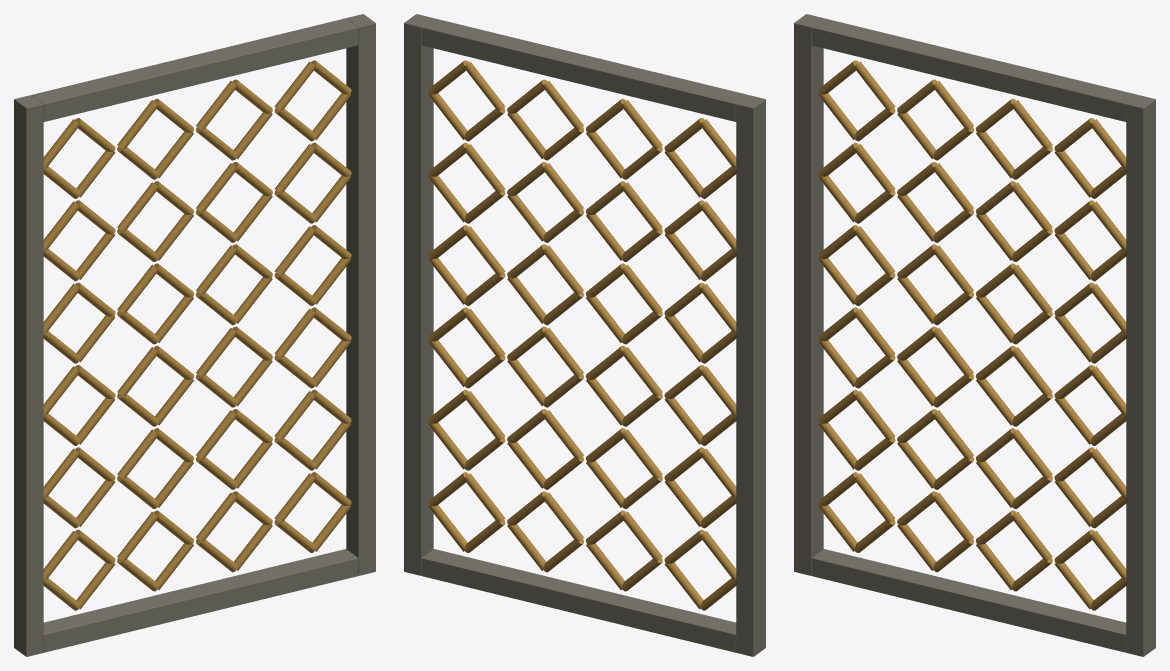
Rendered from mosque-geometric-screen.glb.
3 views of the same model, side by side, from view 1: azimuth 30°, elevation 25°; view 2: azimuth 150°, elevation 25°; view 3: azimuth 330°, elevation 25° (orthographic).
Visible parts, largest first — view 1: Side_Frame, Side_Frame.001, Frame_Rail.001, Frame_Rail, Diamond.080, Diamond.028, Diamond.064, Diamond.092, Diamond.040, Diamond.052, Diamond.068, Diamond.024 (+10 smaller); view 2: Side_Frame, Side_Frame.001, Frame_Rail.001, Frame_Rail, Diamond.080, Diamond.028, Diamond.064, Diamond.092, Diamond.040, Diamond.052, Diamond.068, Diamond.024 (+10 smaller); view 3: Side_Frame.001, Side_Frame, Frame_Rail.001, Frame_Rail, Diamond.009, Diamond.021, Diamond.041, Diamond.053, Diamond.029, Diamond.045, Diamond.065, Diamond.001 (+10 smaller).
Part boxes in pixels (x1,y1,x2,y2): Side_Frame: (14, 95, 43, 656); Side_Frame.001: (346, 14, 375, 575); Frame_Rail.001: (32, 18, 358, 121); Frame_Rail: (43, 549, 358, 652); Diamond.080: (274, 308, 315, 357); Diamond.028: (117, 429, 157, 478); Diamond.064: (196, 163, 236, 212); Diamond.092: (274, 61, 315, 110); Diamond.040: (117, 182, 157, 231); Diamond.052: (196, 410, 236, 459); Diamond.068: (196, 81, 236, 129); Diamond.024: (117, 512, 157, 560); Side_Frame: (736, 95, 765, 656); Side_Frame.001: (404, 14, 433, 575); Frame_Rail.001: (421, 18, 747, 121); Frame_Rail: (421, 549, 736, 652); Diamond.080: (464, 308, 505, 357); Diamond.028: (622, 429, 662, 478); Diamond.064: (543, 163, 583, 212); Diamond.092: (464, 61, 505, 110); Diamond.040: (622, 182, 662, 231); Diamond.052: (543, 410, 583, 459); Diamond.068: (543, 81, 583, 129); Diamond.024: (622, 512, 662, 560); Side_Frame.001: (1126, 95, 1155, 656); Side_Frame: (794, 14, 823, 575); Frame_Rail.001: (811, 18, 1137, 121); Frame_Rail: (811, 549, 1126, 652); Diamond.009: (854, 308, 895, 357); Diamond.021: (854, 61, 895, 110); Diamond.041: (933, 163, 973, 212); Diamond.053: (1012, 429, 1052, 478); Diamond.029: (933, 410, 973, 459); Diamond.045: (933, 81, 973, 129); Diamond.065: (1012, 182, 1052, 231); Diamond.001: (854, 473, 895, 522).
Bounding box in the file's own units: 1.6 × 2.4 × 0.1.
